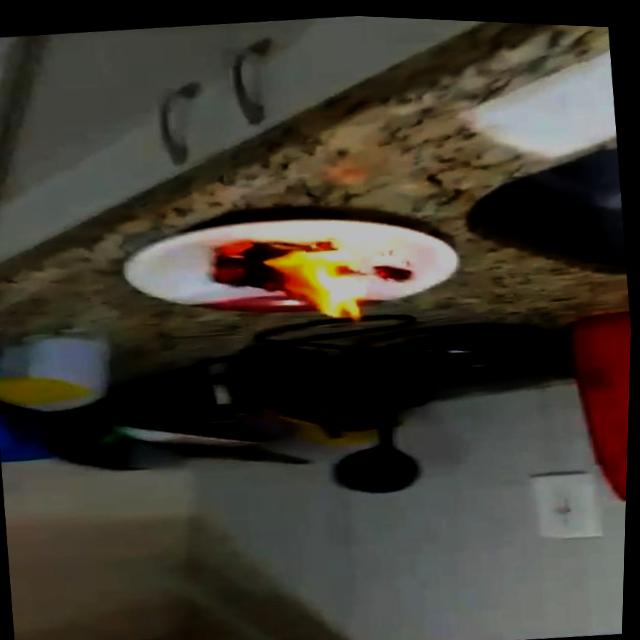helmet: (267, 231, 370, 327)
